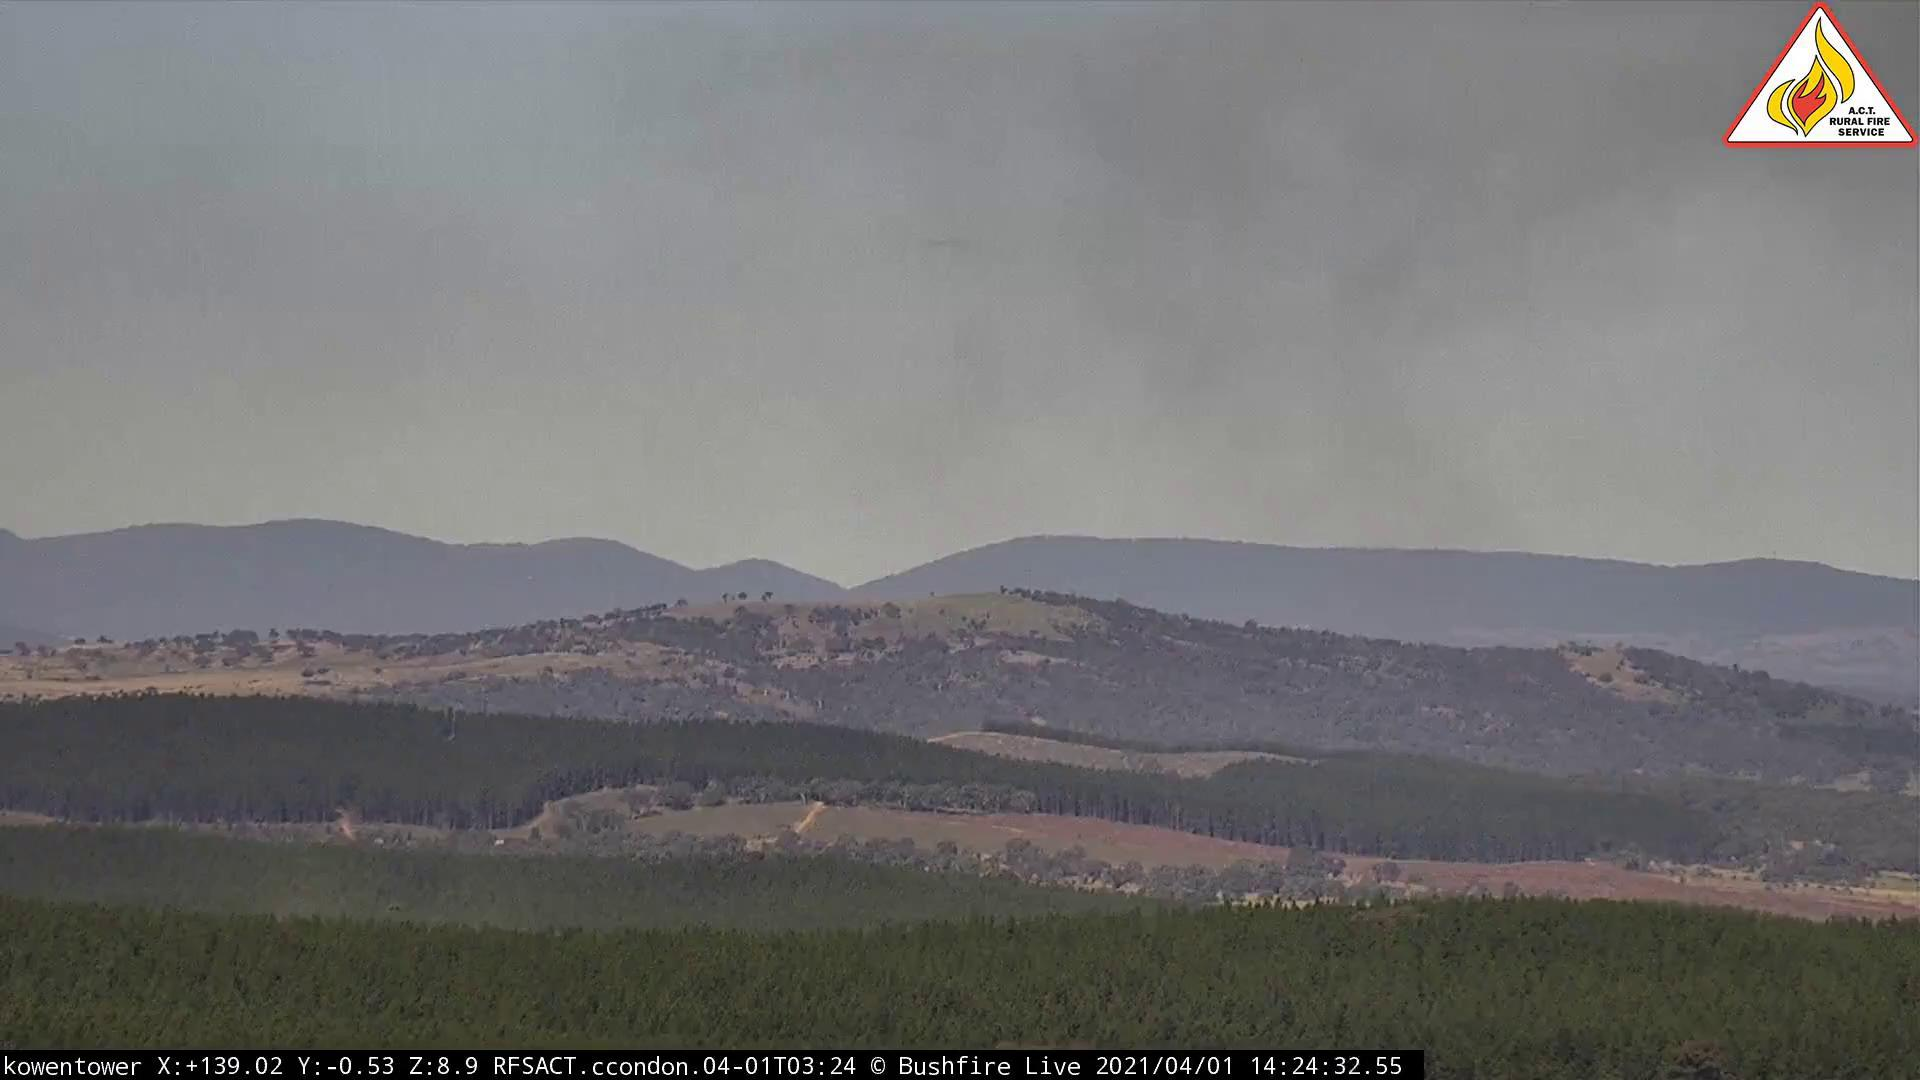Smoke: (3, 7, 1920, 588)
